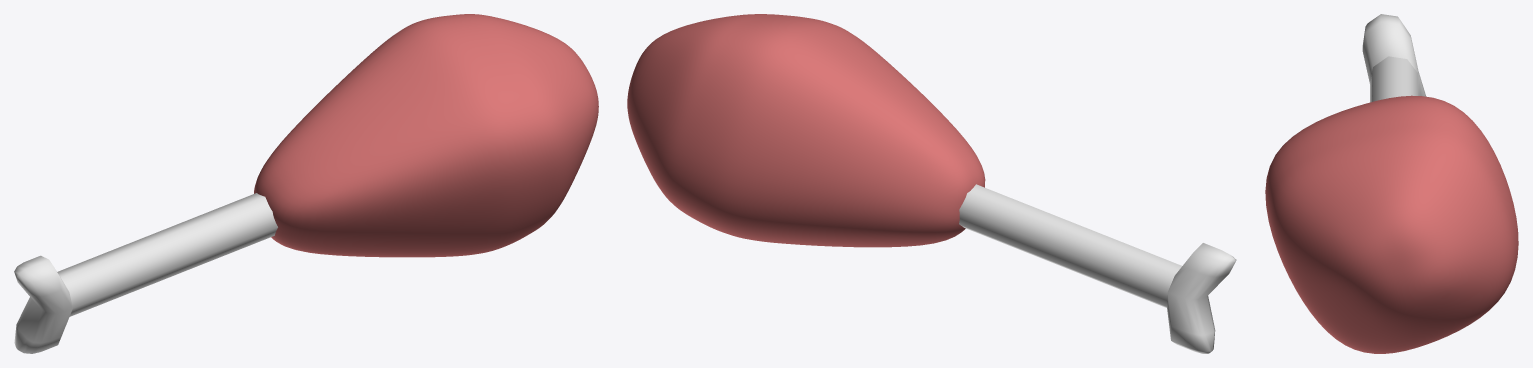
File: Drumstick_Raw.fbx
3 views of the same model, side by side, from view 1: azimuth 30°, elevation 25°; view 2: azimuth 150°, elevation 25°; view 3: azimuth 270°, elevation 25° (orthographic). The views are drawn at different scales.
Parts seen in each view (by area): view 1: Raw Drumstick, Cylinder.001; view 2: Raw Drumstick, Cylinder.001; view 3: Raw Drumstick, Cylinder.001.
Part boxes in pixels (box(x1,y1,x2,y2)): Raw Drumstick: box(254, 14, 598, 257); Cylinder.001: box(14, 193, 277, 353); Raw Drumstick: box(627, 14, 985, 247); Cylinder.001: box(959, 184, 1236, 353); Raw Drumstick: box(1265, 95, 1518, 353); Cylinder.001: box(1362, 14, 1426, 102).
Size of the model in its own units: 3712 by 1344 by 1319.
